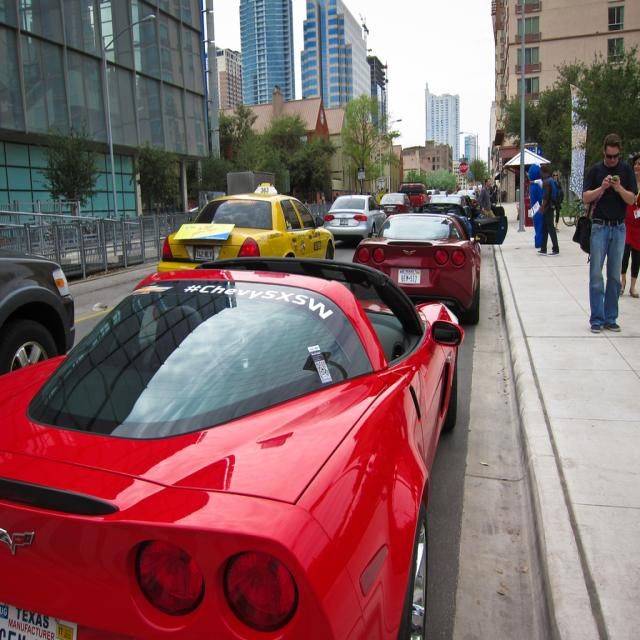car: (0, 253, 460, 639)
